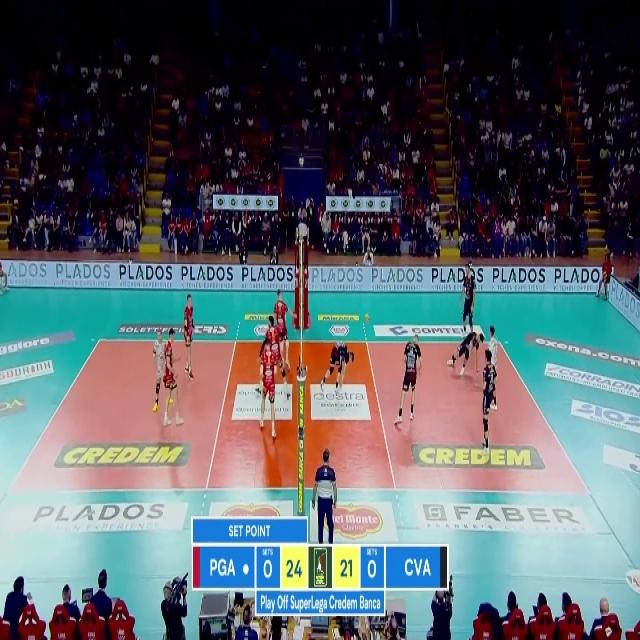volleyball court: (10, 333, 592, 496)
